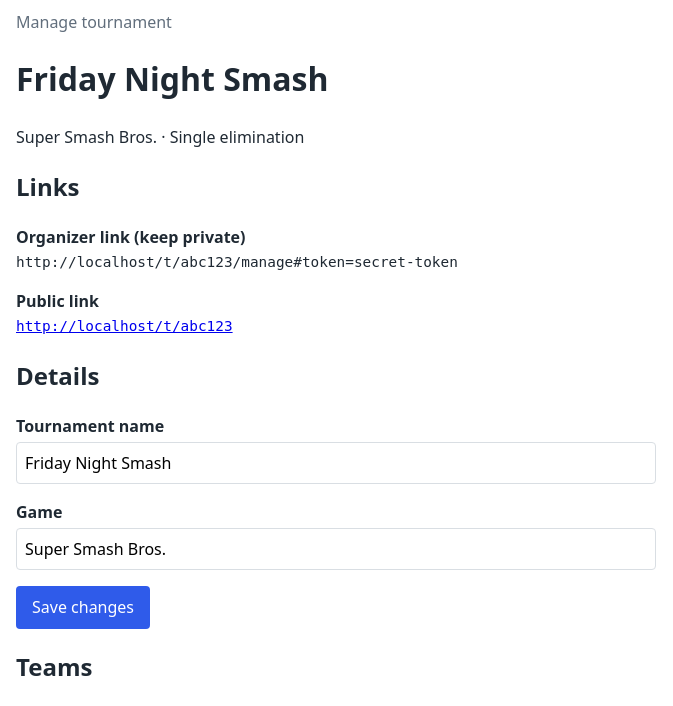
Test: ManageTournamentPage › saves edits with the organizer token
Replace the text in the field labelled "Tournament name" with "Renamed Cup" at x=336, y=463, box [16, 442, 656, 484]
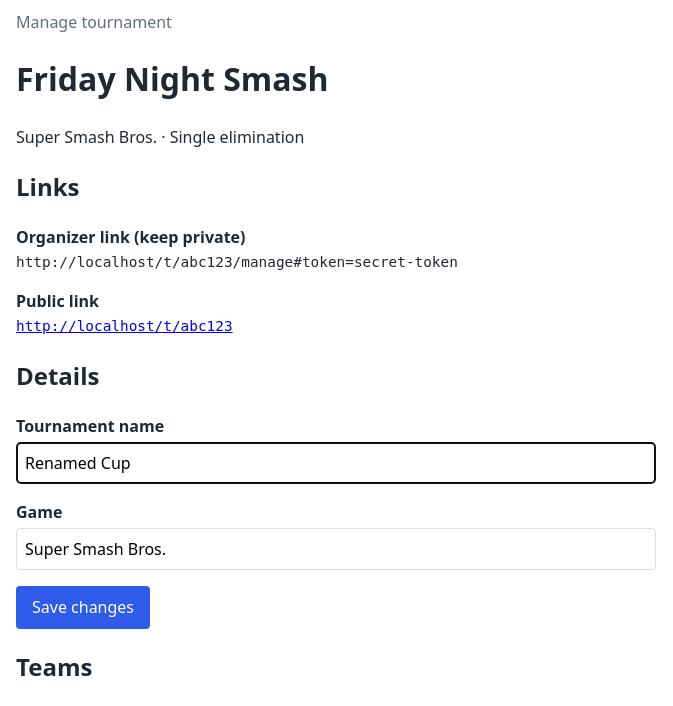
Click the button "Save changes" at x=83, y=607, box [16, 586, 150, 629]
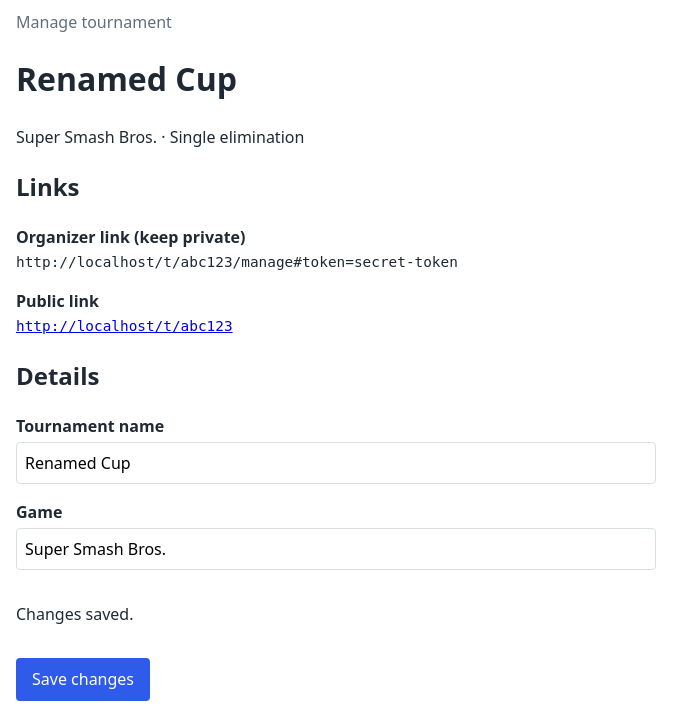
Check: the heading "Renamed Cup" is shown, box [16, 57, 237, 100]
